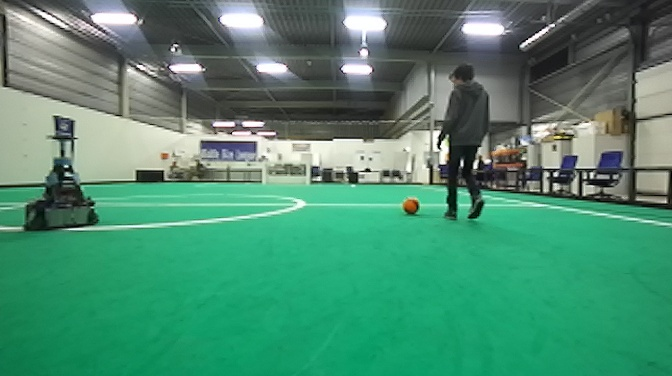ball: (399, 194, 425, 217)
goal: (260, 159, 311, 188)
goalpost: (261, 161, 268, 187), (304, 160, 310, 187)
human: (430, 61, 493, 229)
robot: (19, 109, 102, 234)
